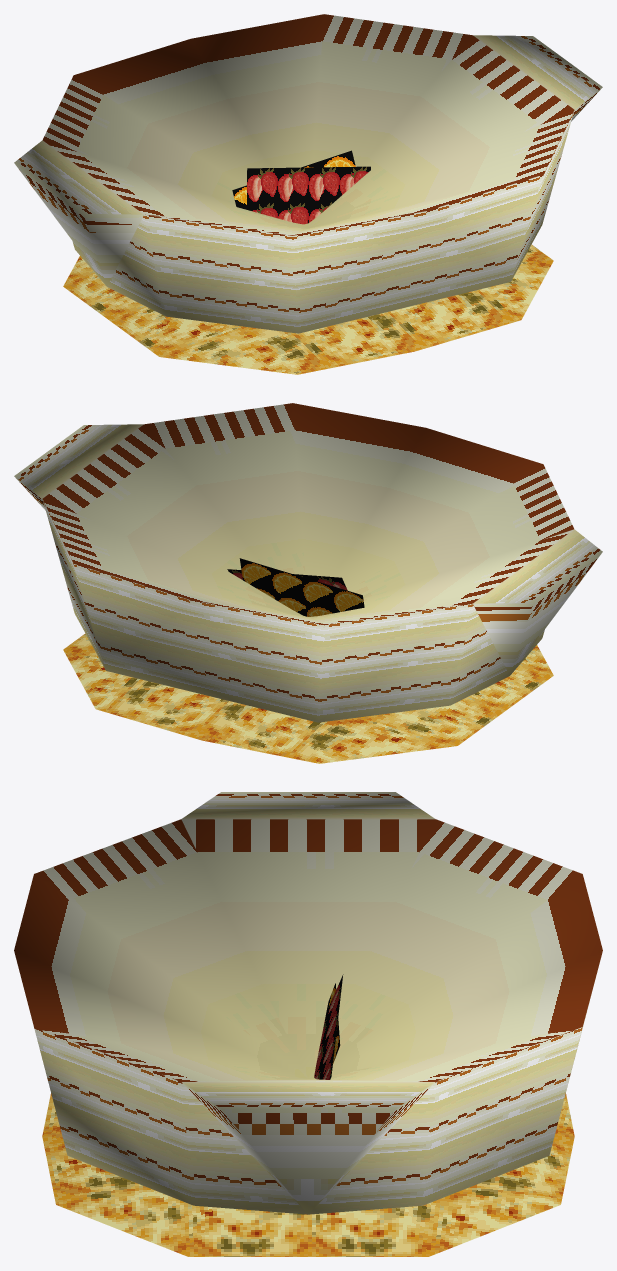
The model's file is 5508u_grtn00_hs.gltf.
The picture shows the model from 3 angles, top to bottom: view 1: azimuth 30°, elevation 25°; view 2: azimuth 150°, elevation 25°; view 3: azimuth 270°, elevation 25°; orthographic projection. The views are drawn at different scales.
Parts seen in each view (by area): view 1: 5508u_grtn00_hs; view 2: 5508u_grtn00_hs; view 3: 5508u_grtn00_hs.
Part boxes in pixels (bbox=[...]): 5508u_grtn00_hs: bbox=[14, 14, 602, 374]; 5508u_grtn00_hs: bbox=[14, 403, 602, 763]; 5508u_grtn00_hs: bbox=[14, 792, 602, 1256].
Bounding box in the file's own units: 0.7324 × 0.2476 × 0.5752.
Materials: 4 (4 with a texture image).
